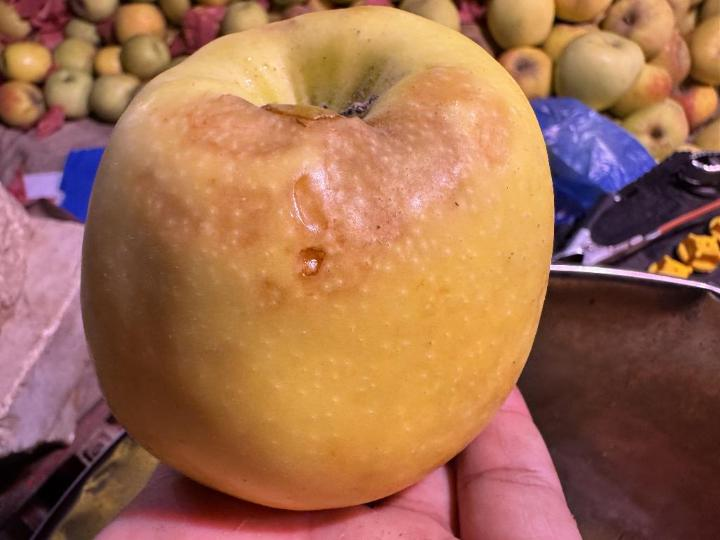apple: (82, 8, 551, 509)
bruise_discoloration: (197, 68, 515, 287)
